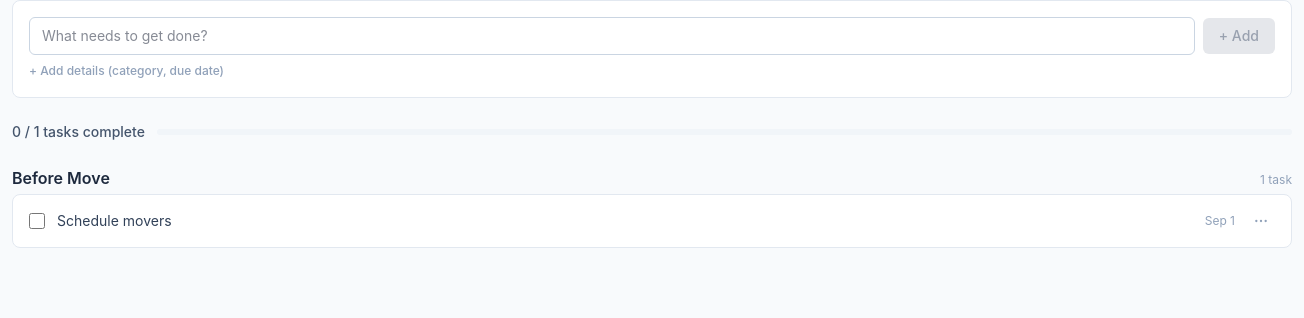
ChecklistPage › adds a task from the single input without requiring category or date
This screenshot has width=1304, height=318.
Expected: the text "Schedule movers" is shown, [57, 212, 172, 229]
In the field with placeholder "What needs to get done?": x=612, y=36 [29, 17, 1195, 55], type "Cancel gym membership"
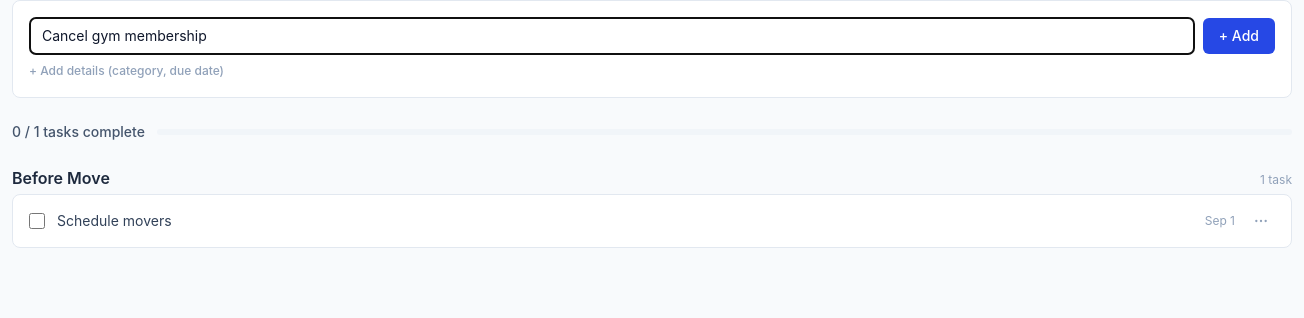
Click the button "+ Add": x=1239, y=36 [1203, 18, 1275, 54]
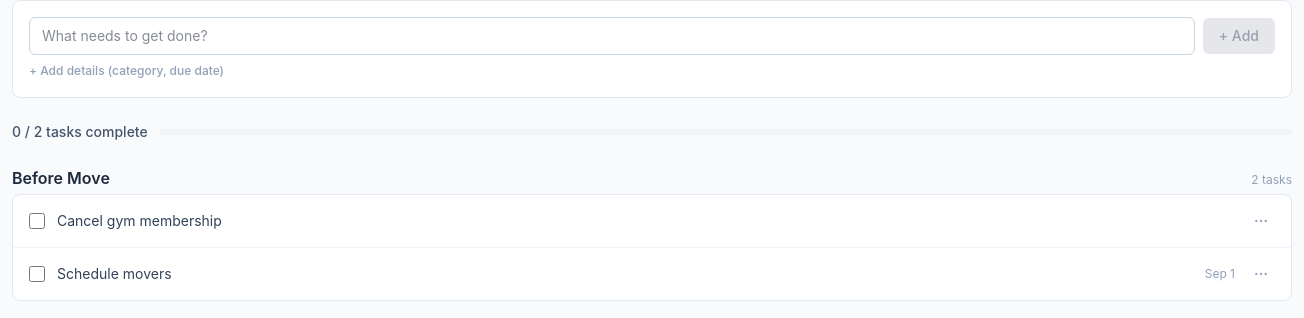
Now the text "Cancel gym membership" is shown, box [57, 212, 222, 229]
